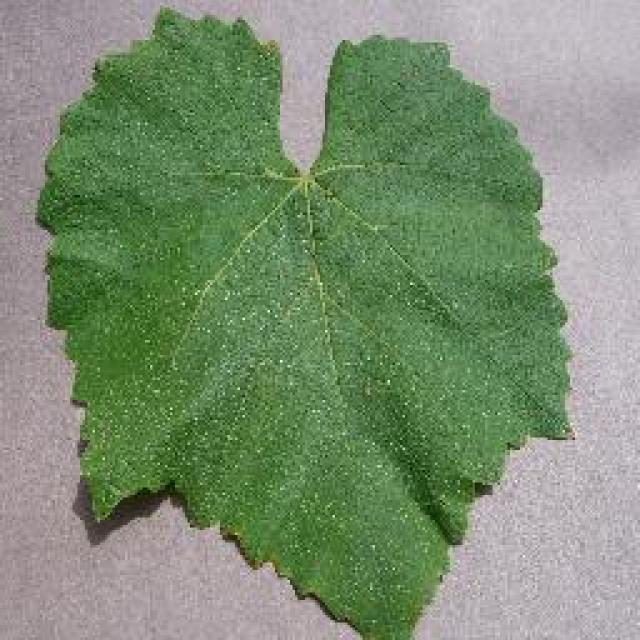Grape___healthy: (38, 10, 568, 638)
